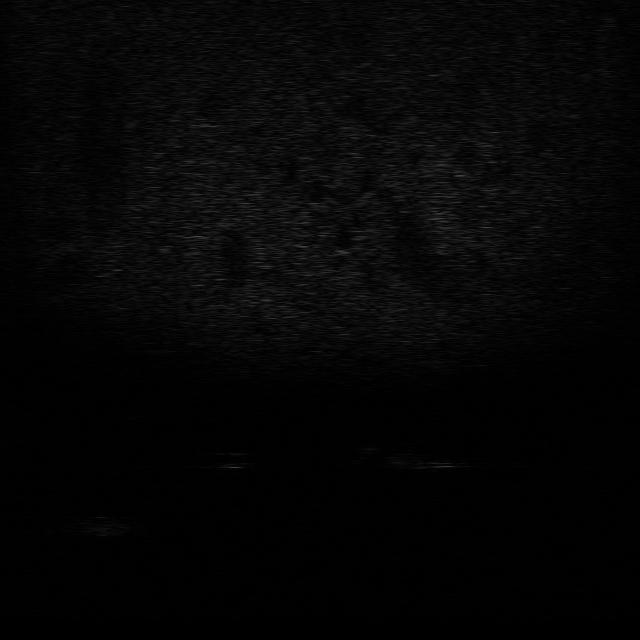ball: (209, 447, 256, 471)
circle cage: (51, 514, 128, 539)
human body: (342, 441, 466, 472)
